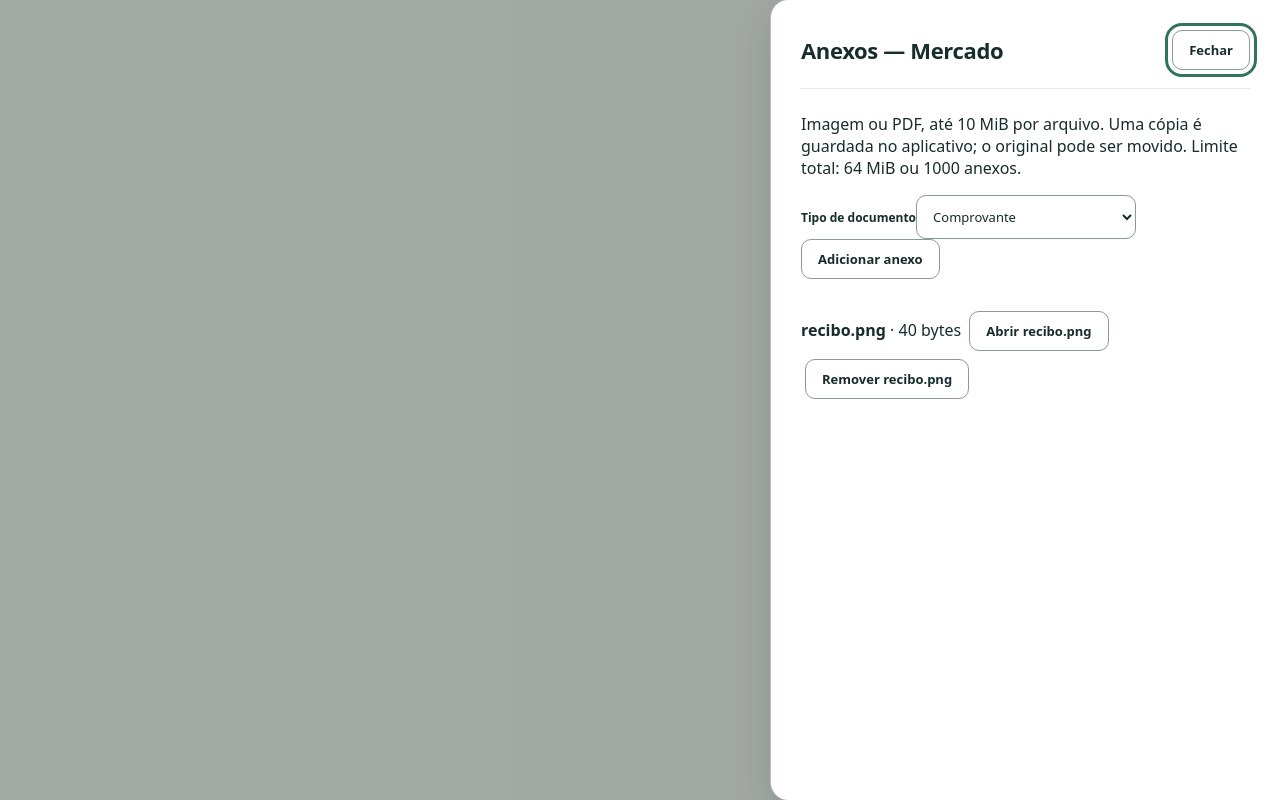
Test: abre conteúdo verificado, exige confirmação e preserva o anexo em falha
Click the button "Abrir recibo.png". click: [1039, 331]
box: [969, 311, 1109, 351]
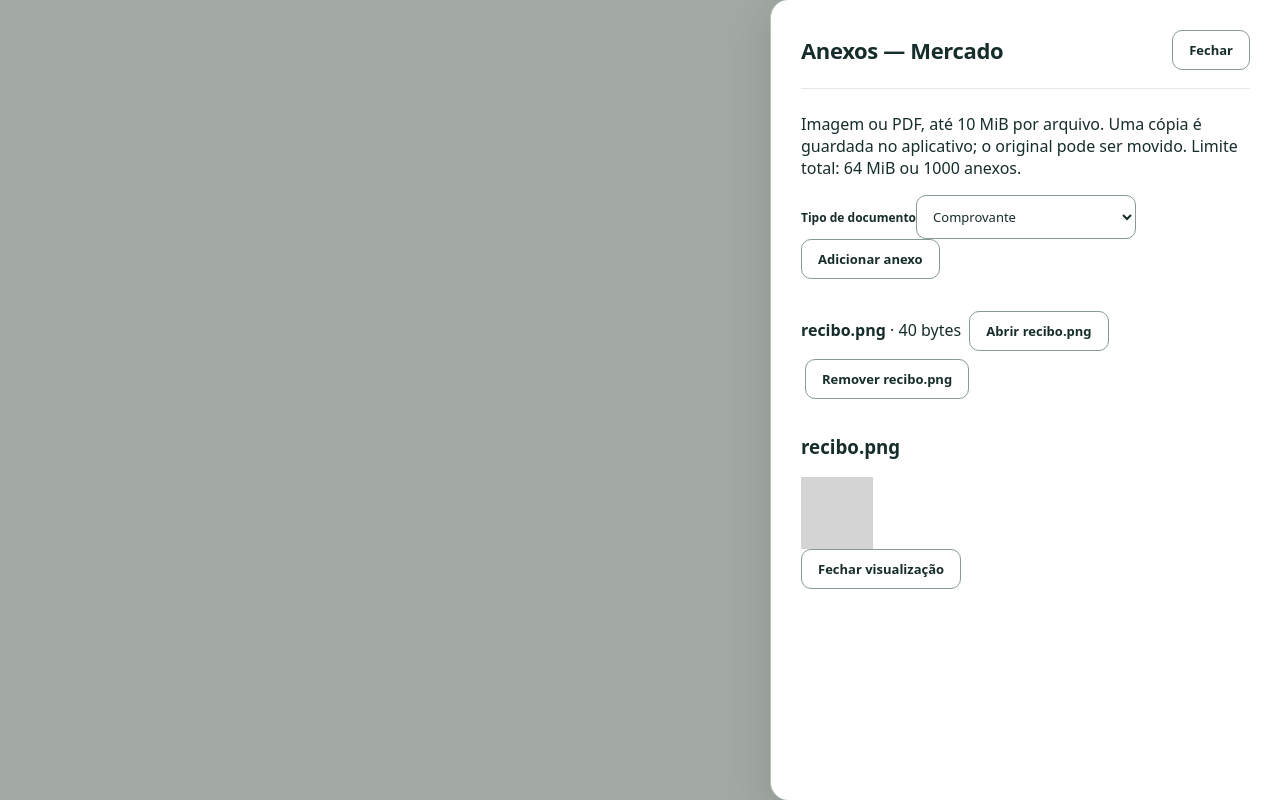
Click the button "Remover recibo.png". click: [887, 379]
box: [805, 359, 969, 399]
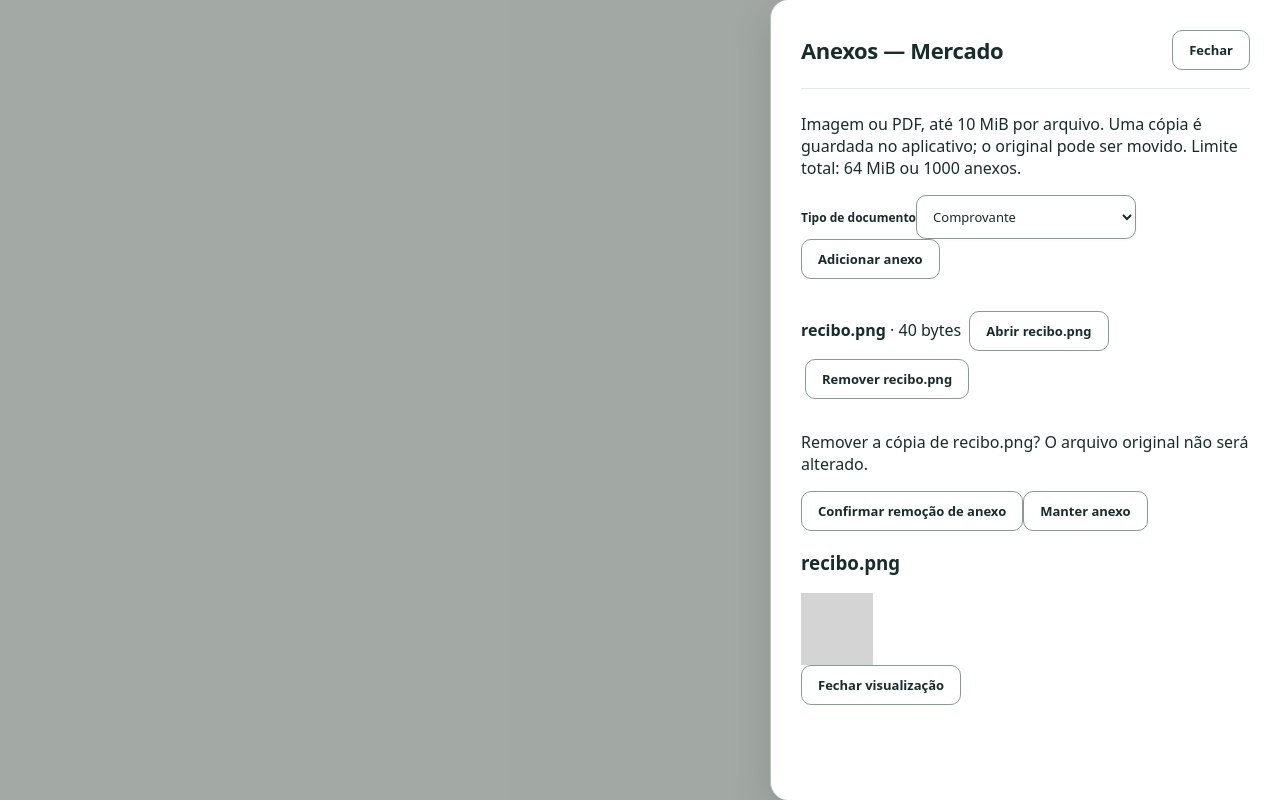
Click the button "Confirmar remoção de anexo". click: [912, 511]
box: [801, 491, 1023, 531]
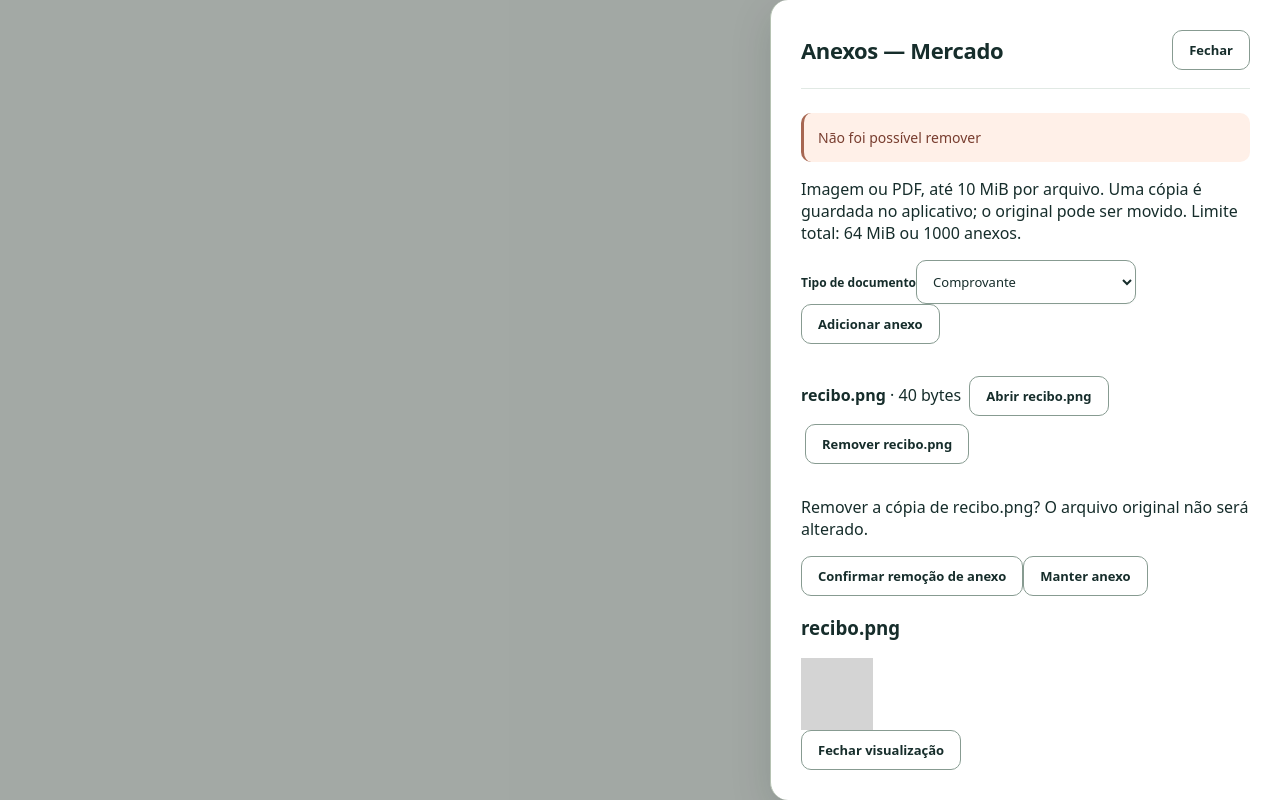
Result: the text "Não foi possível remover" is shown at [801, 113, 1250, 162]
Click the button "Confirmar remoção de anexo". click: [912, 576]
box: [801, 556, 1023, 596]
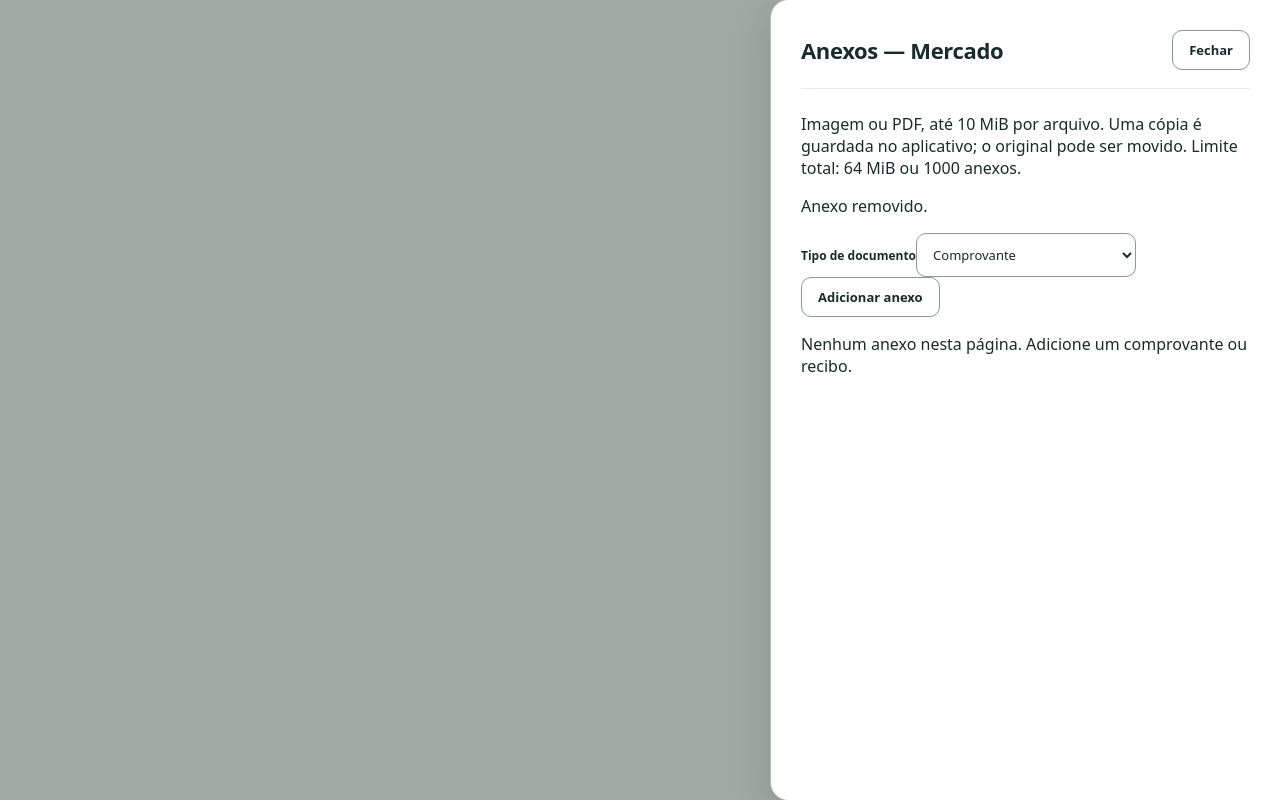
Result: the text "Anexo removido." is shown at [801, 195, 928, 217]
Result: the dialog with alt text "Anexo recibo.png" is gone
